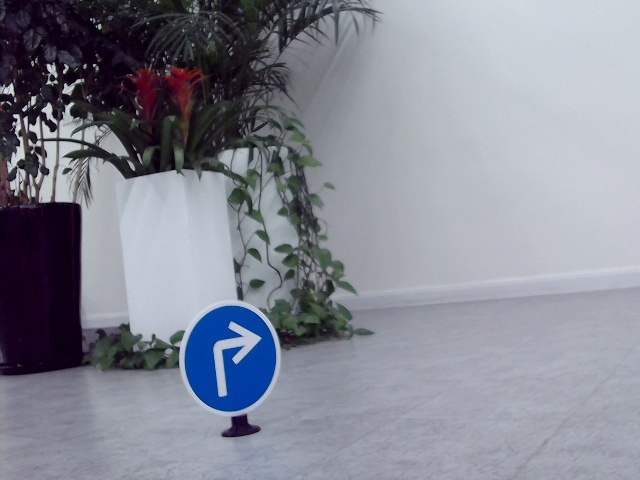turn_right: (209, 318, 260, 398)
